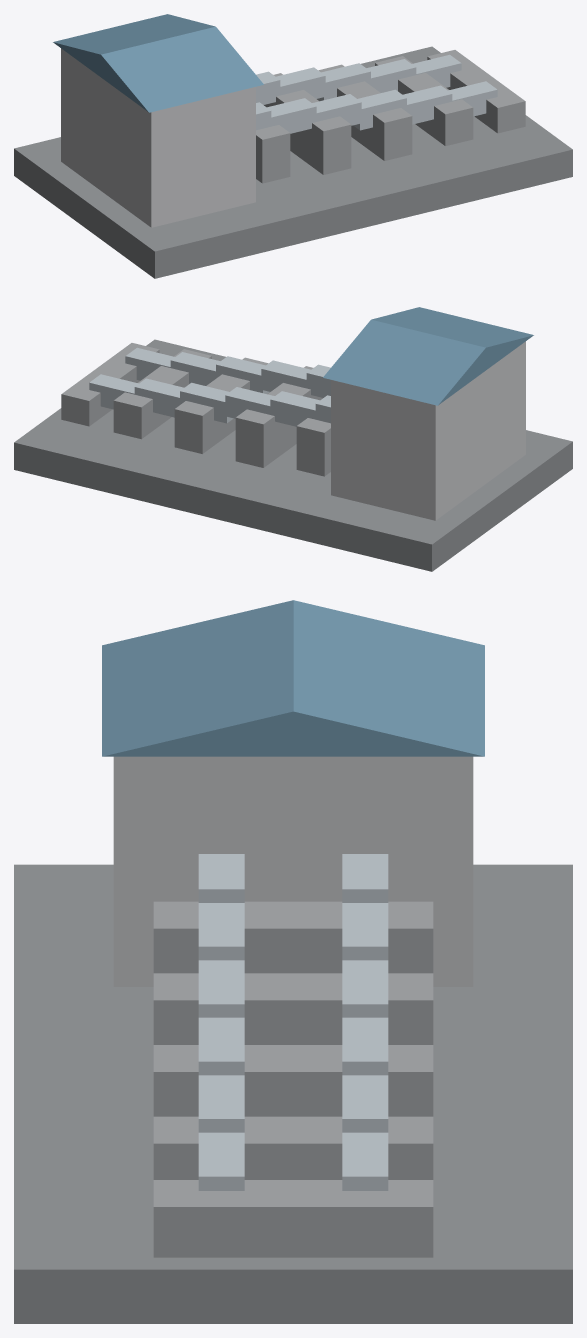
The model's file is lm_126_dap_thuy_dien_da_nhim_va_duong_ong_ap_luc_doi_deo_ngoan_muc_don_duong.glb.
3 renders of one model, top to bottom at view 1: azimuth 30°, elevation 25°; view 2: azimuth 150°, elevation 25°; view 3: azimuth 270°, elevation 25°, orthographic. The views are drawn at different scales.
Visible parts, largest first — view 1: lm_126; view 2: lm_126; view 3: lm_126.
Part boxes in pixels (x1,y1,x2,y2): lm_126: (14, 14, 572, 278); lm_126: (14, 307, 572, 571); lm_126: (14, 600, 572, 1323).
Bounding box in the file's own units: 48 × 18.5 × 28.
